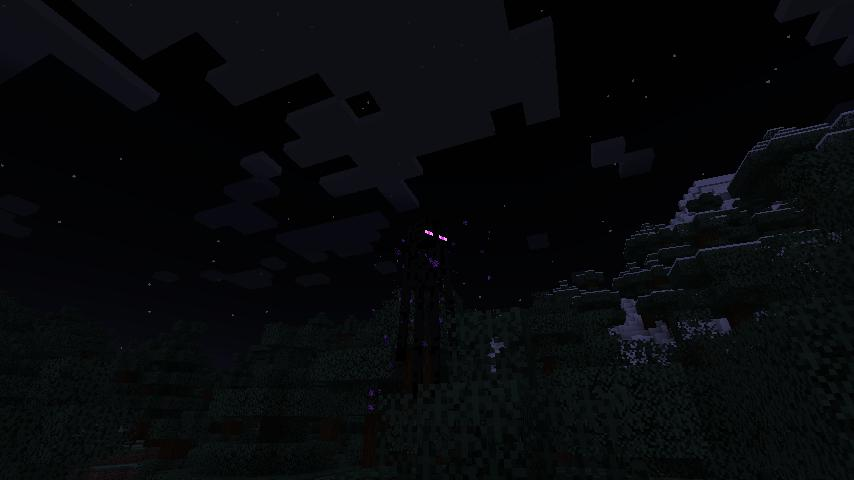enderman: (396, 217, 452, 389)
